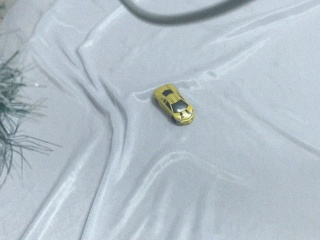toy_car: (154, 84, 194, 125)
